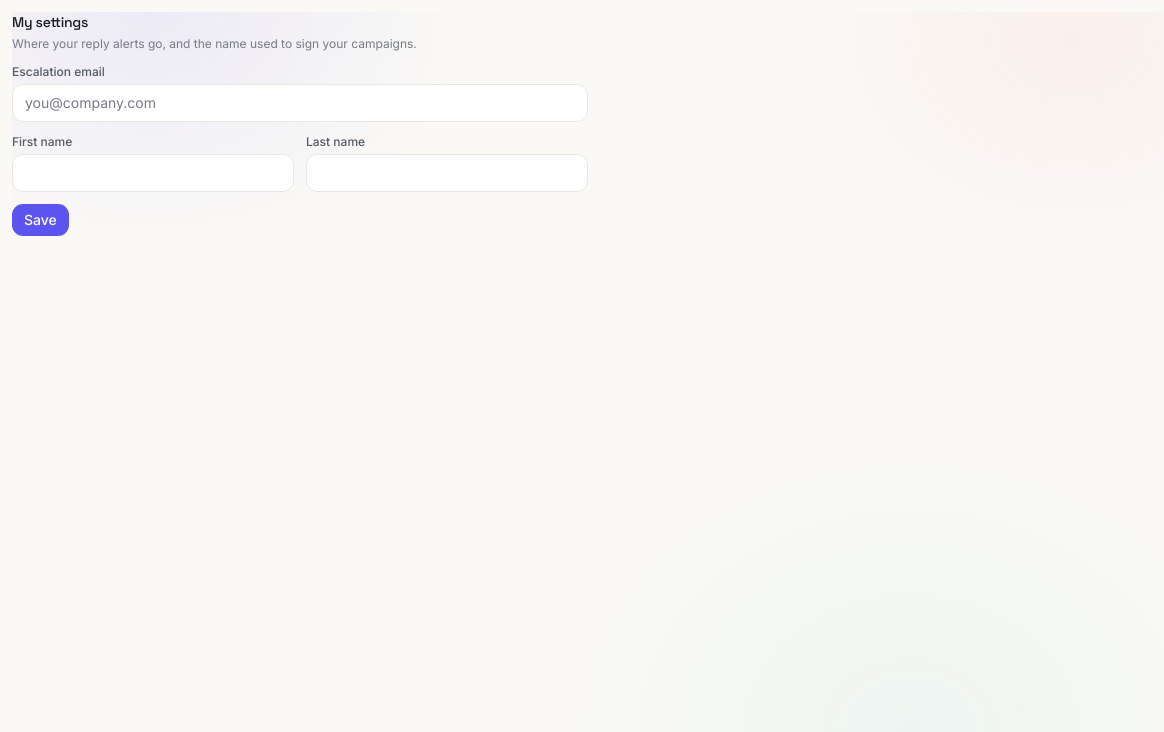
MySettings › saves the escalation email and sender names
Type "me@x.com" into the field labelled "Escalation email" at coordinates (300, 103), box [12, 84, 588, 122]
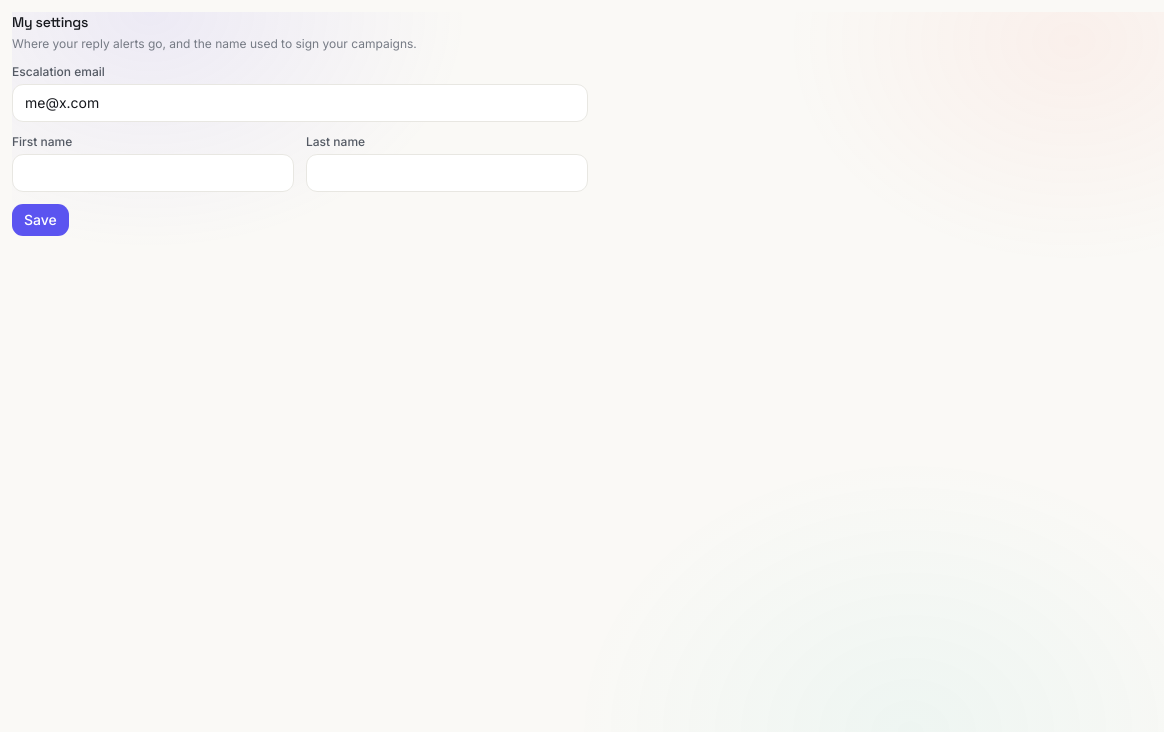
Type "Al" into the field labelled "First name" at coordinates (153, 173), box [12, 154, 294, 192]
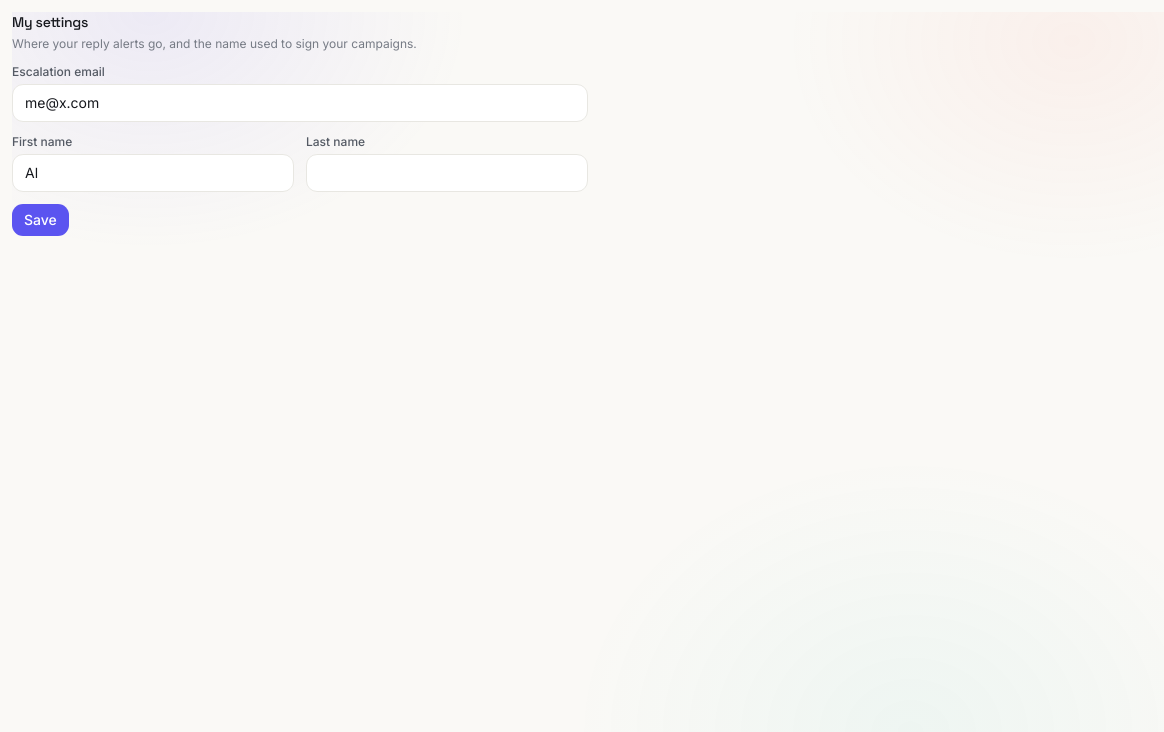
Type "Jones" into the field labelled "Last name" at coordinates (447, 173), box [306, 154, 588, 192]
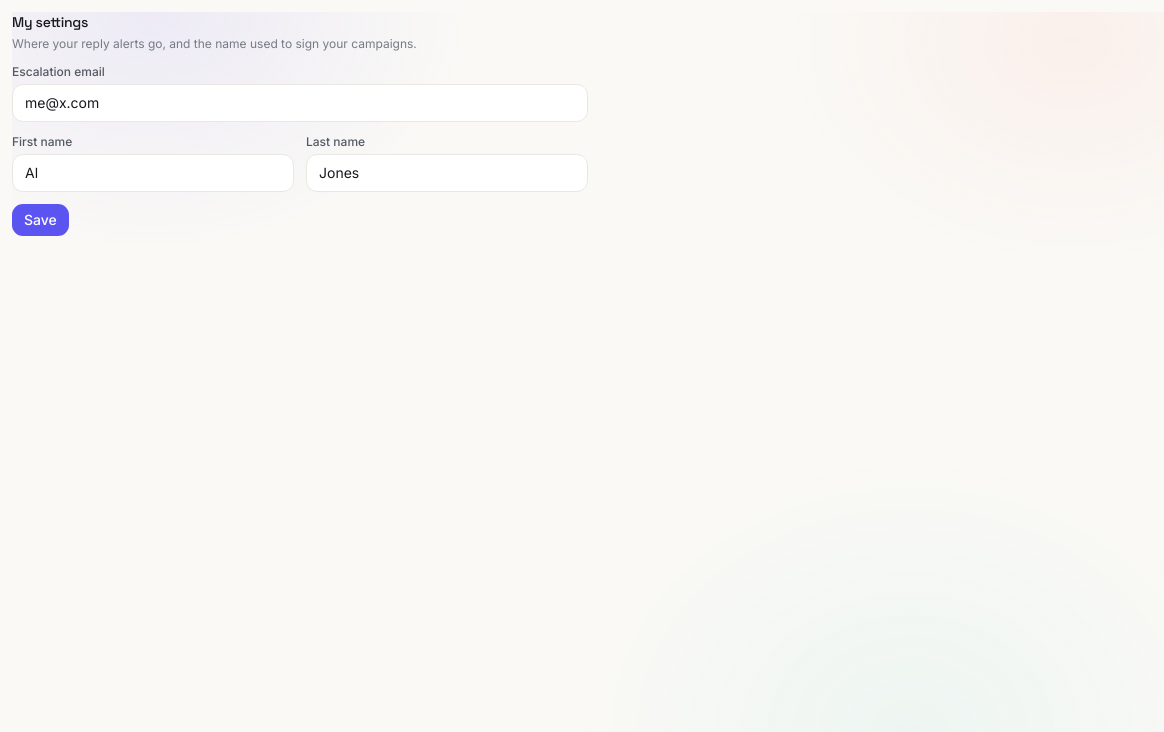
Click the button "Save" at coordinates (40, 220), box [12, 204, 69, 236]
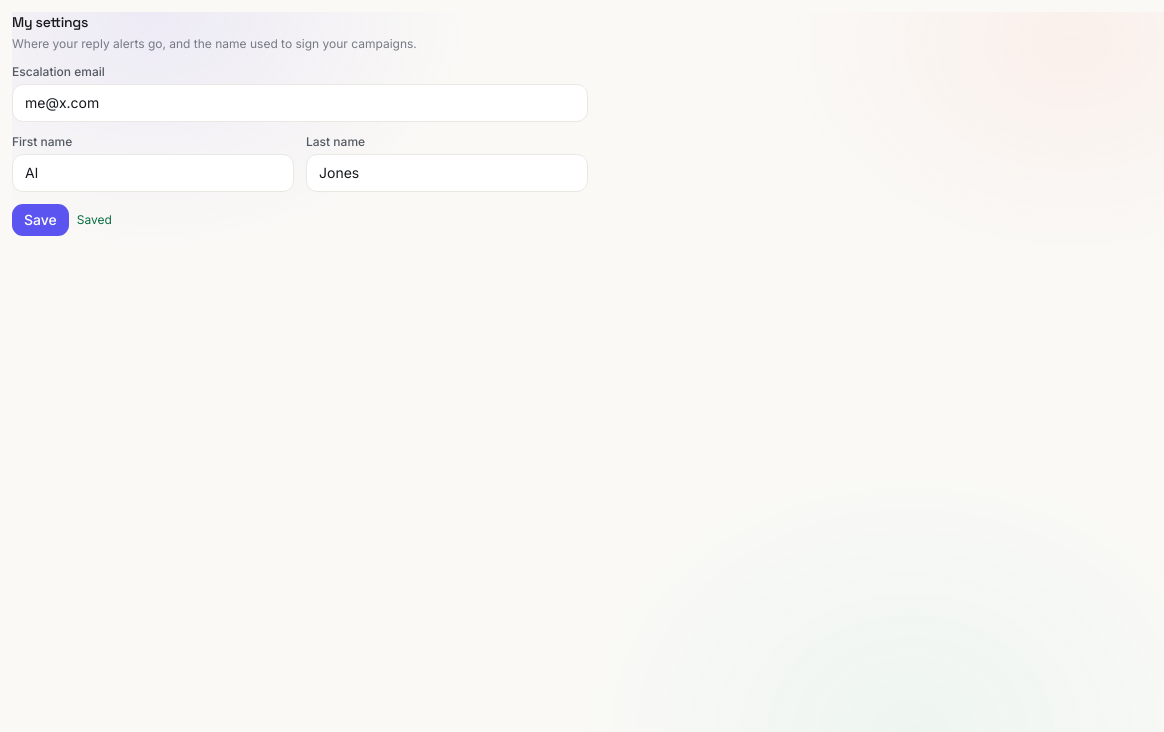
Now the text "Saved" is shown, box [77, 212, 112, 228]
